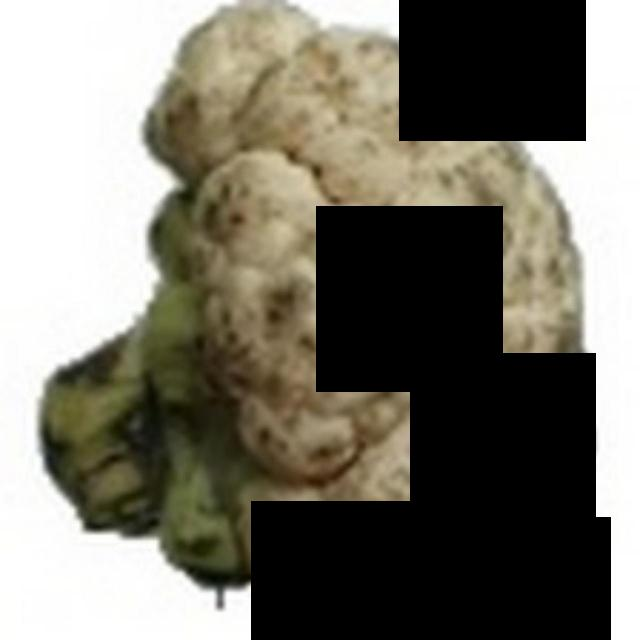cauliflower: (26, 6, 631, 636)
